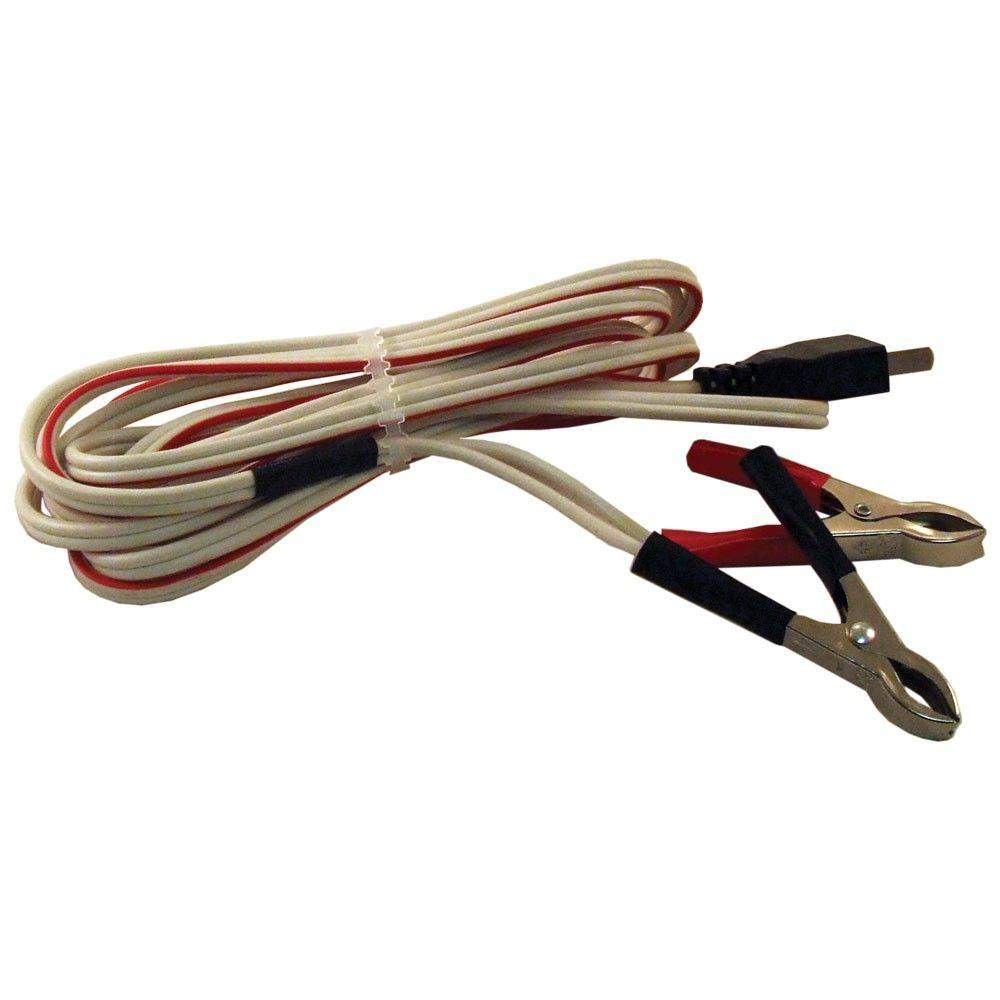Nonrec_Tangler: (1, 256, 990, 737)
